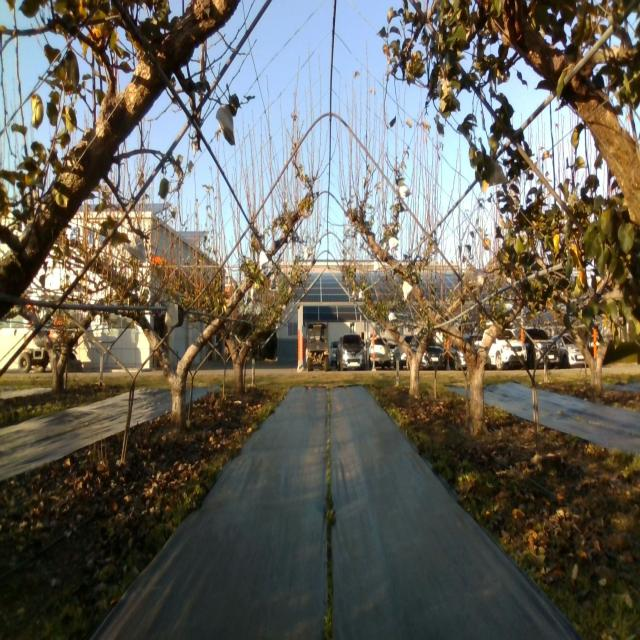pearbags: (216, 104, 236, 146), (125, 235, 146, 262), (489, 161, 506, 187), (475, 270, 488, 296)
